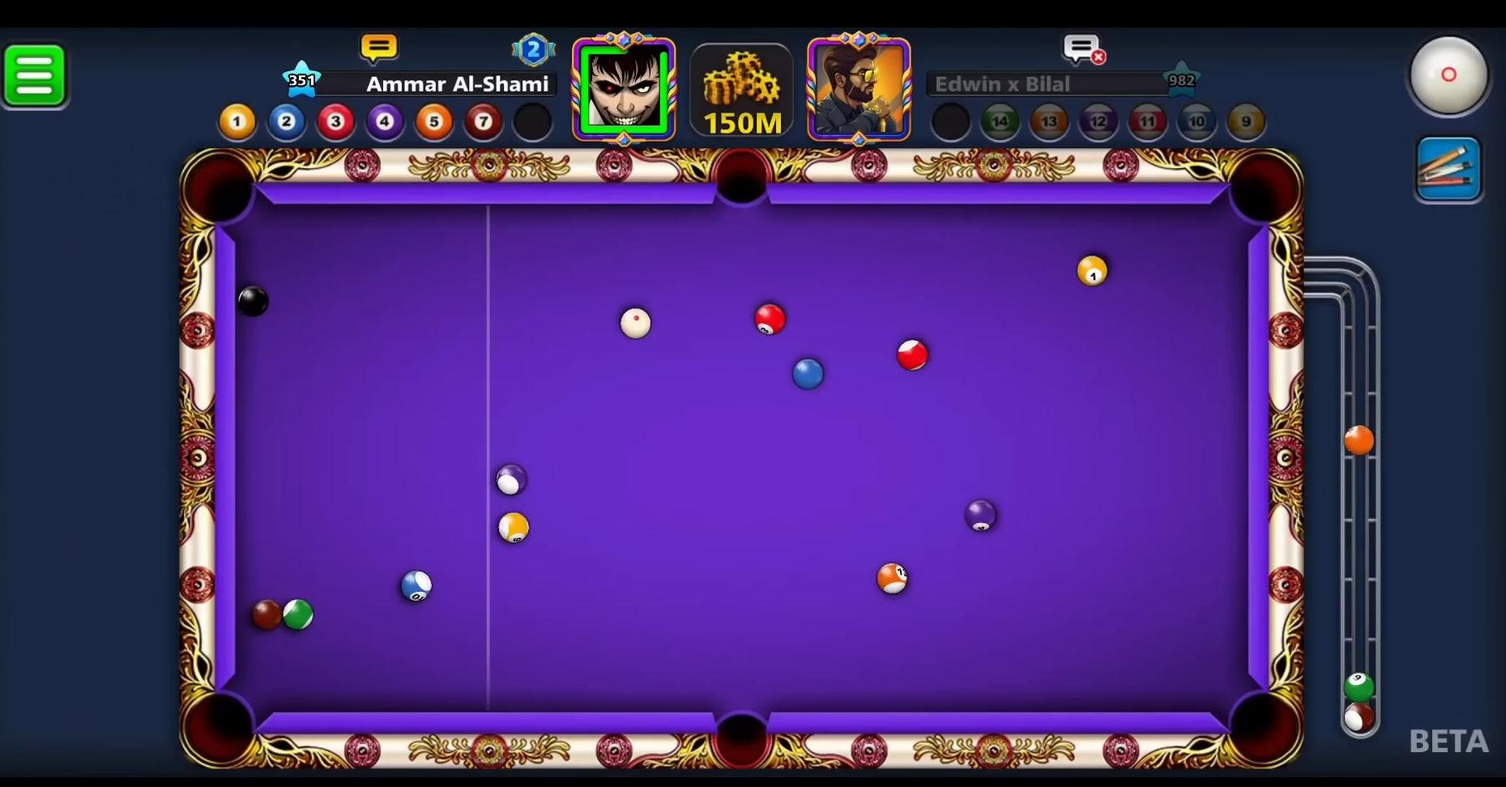Ball: (489, 502, 539, 553), (393, 564, 442, 613), (225, 282, 279, 322), (243, 592, 289, 638), (871, 551, 912, 602), (275, 594, 319, 640), (488, 457, 535, 500), (959, 495, 1003, 540), (1070, 252, 1117, 291), (895, 336, 934, 373), (751, 300, 789, 334), (791, 355, 826, 391)
Hole: (174, 137, 269, 237), (1215, 683, 1308, 776), (173, 687, 267, 772), (1220, 141, 1304, 235), (699, 141, 783, 222), (703, 696, 783, 777)
Play_Area: (233, 203, 1244, 715)
Spin: (1402, 27, 1504, 129)
White: (608, 303, 658, 344)
